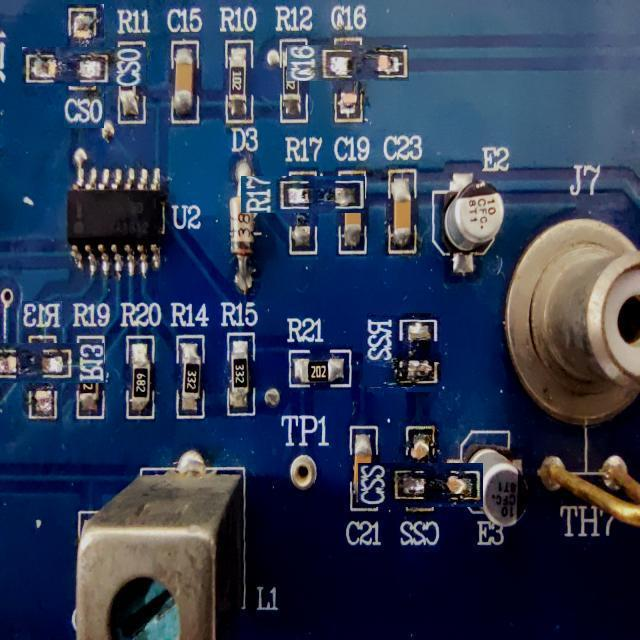miss_welding: (378, 443, 462, 528), (43, 25, 125, 107), (2, 322, 84, 404), (263, 153, 344, 234), (309, 23, 388, 102), (365, 315, 439, 390)
